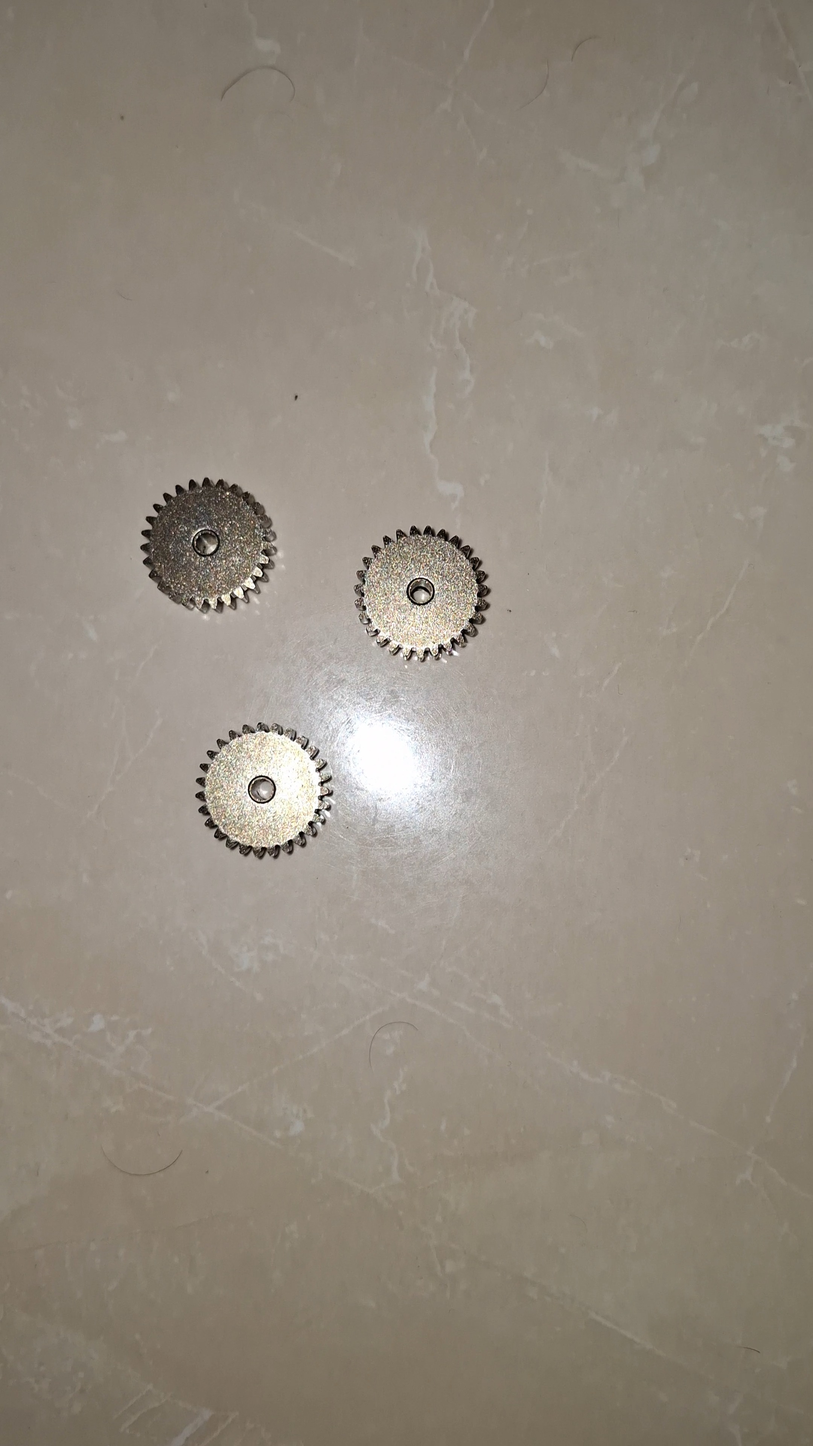spur gear: (196, 723, 332, 857), (355, 526, 489, 659), (142, 478, 276, 610)
